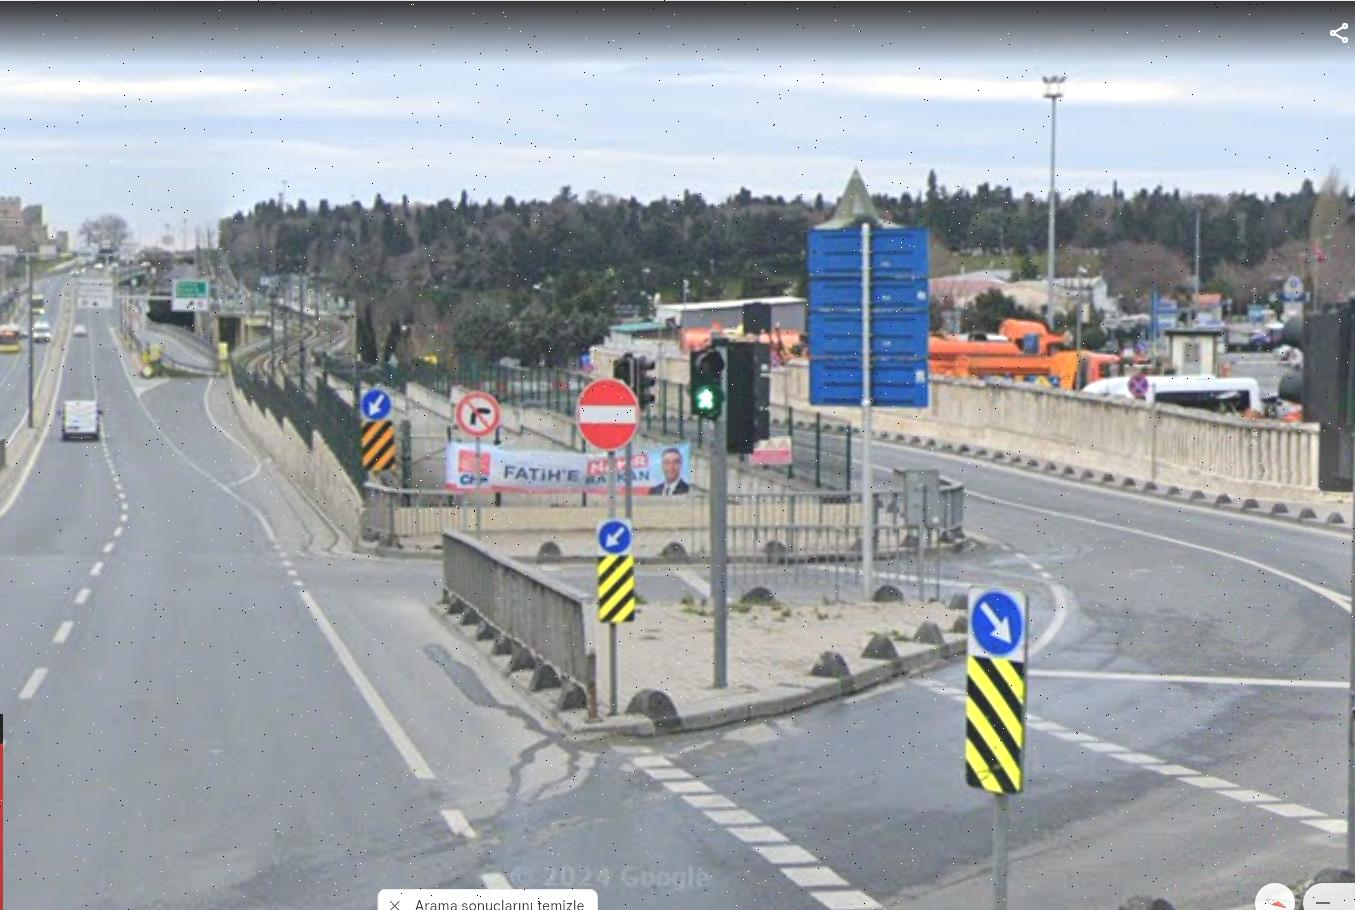rightturnsareforbidden: (456, 394, 501, 436)
